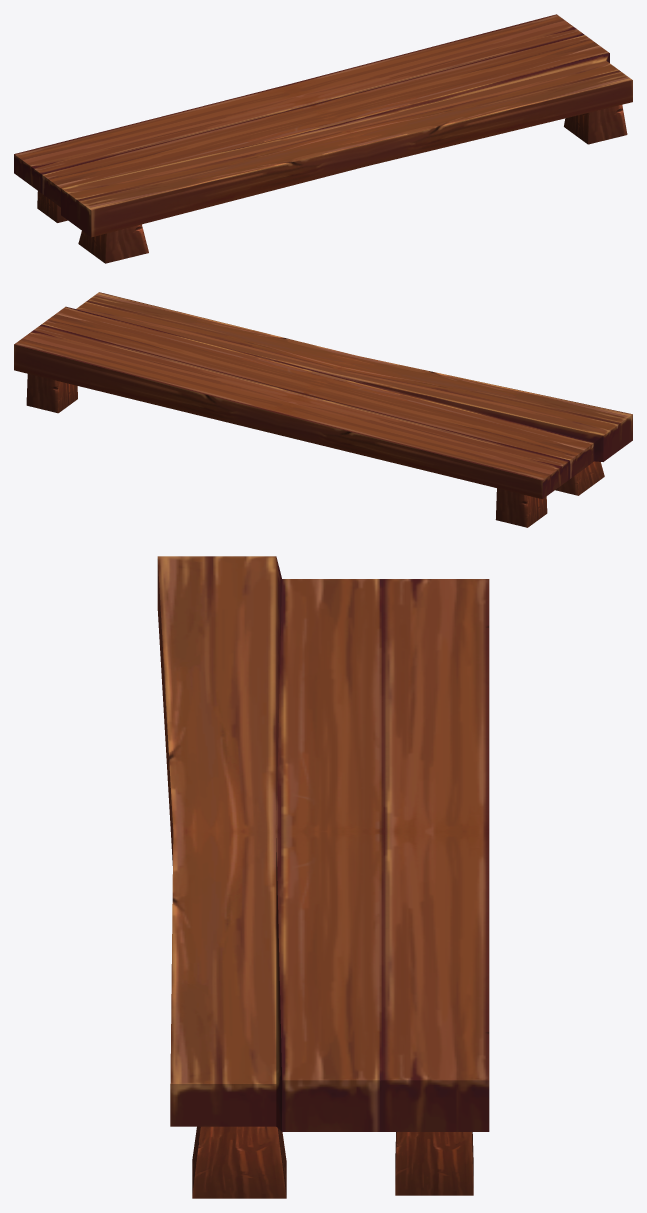
File: ZhuoZi03.FBX
The picture shows the model from 3 angles, top to bottom: view 1: azimuth 30°, elevation 25°; view 2: azimuth 150°, elevation 25°; view 3: azimuth 270°, elevation 25°; orthographic projection. The views are drawn at different scales.
Visible parts, largest first — view 1: ZhuoZi03; view 2: ZhuoZi03; view 3: ZhuoZi03.
Boxes of the visible parts, x1,y1,x2,y2 form: ZhuoZi03: [14, 14, 632, 263]; ZhuoZi03: [14, 292, 632, 527]; ZhuoZi03: [157, 556, 489, 1198].
Bounding box in the file's own units: 393 × 43.62 × 105.
